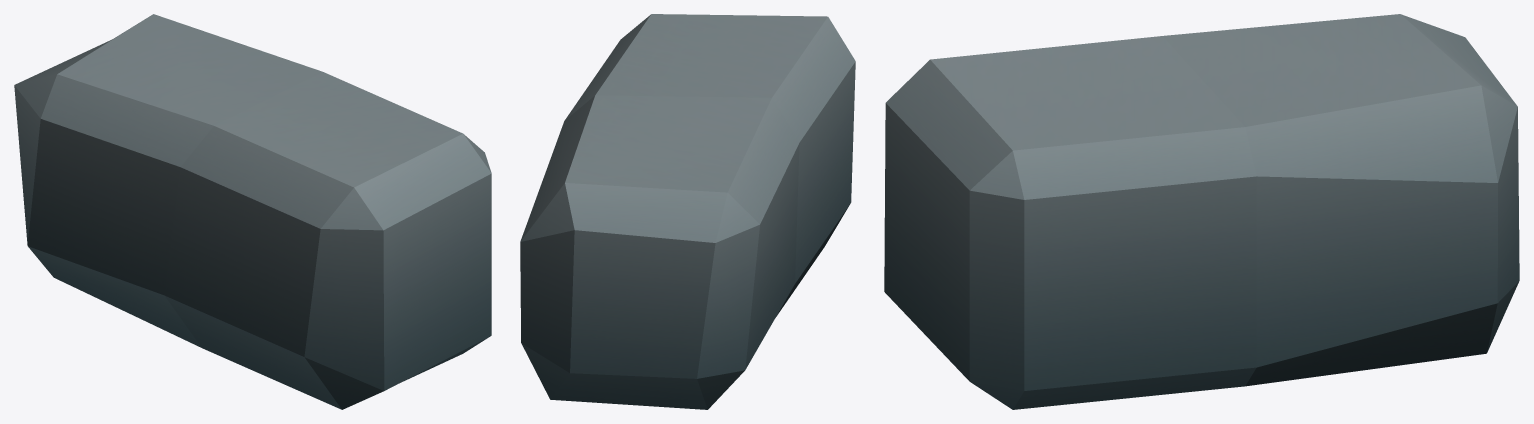
The model's file is Pedregulho.fbx.
3 views of the same model, side by side, from view 1: azimuth 30°, elevation 25°; view 2: azimuth 150°, elevation 25°; view 3: azimuth 270°, elevation 25° (orthographic). The views are drawn at different scales.
Visible parts, largest first — view 1: Cube.007; view 2: Cube.007; view 3: Cube.007.
Boxes of the visible parts, box(x1,y1,x2,y2) form: Cube.007: box(14, 14, 491, 409); Cube.007: box(520, 14, 855, 409); Cube.007: box(884, 14, 1519, 409).
Size of the model in its own units: 78.5 by 58.19 by 125.
1 material, 1 textured.
